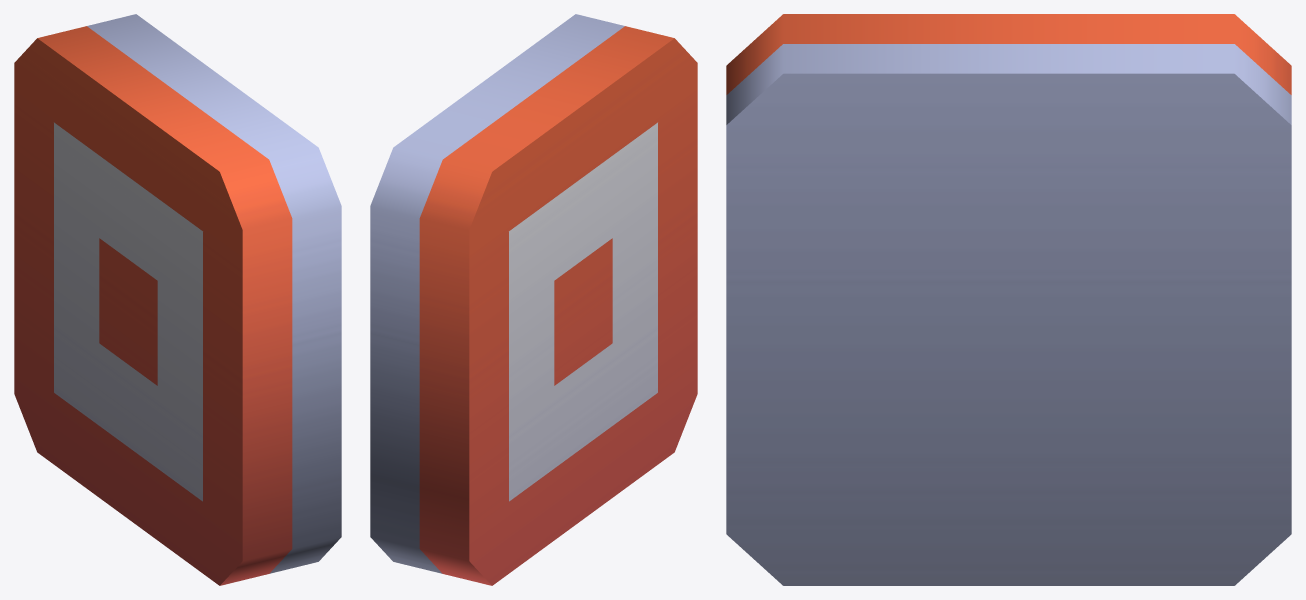
Rendered from target-a-square.fbx.
3 views of the same model, side by side, from view 1: azimuth 30°, elevation 25°; view 2: azimuth 150°, elevation 25°; view 3: azimuth 270°, elevation 25° (orthographic). The views are drawn at different scales.
Parts seen in each view (by area): view 1: target-a-square; view 2: target-a-square; view 3: target-a-square.
Boxes of the visible parts, x1,y1,x2,y2 form: target-a-square: [14, 14, 341, 585]; target-a-square: [370, 14, 697, 585]; target-a-square: [726, 14, 1291, 585].
Bounding box in the file's own units: 12.4 × 49.6 × 49.6.
